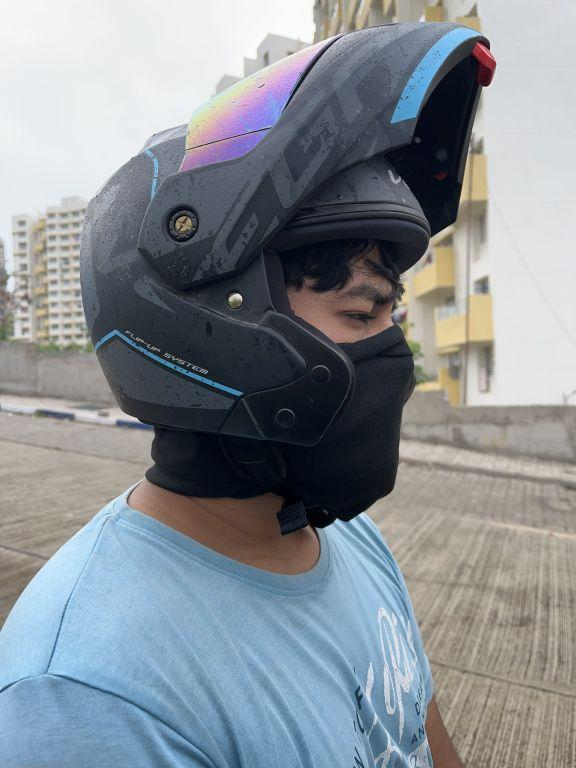helmet: (74, 14, 506, 518)
